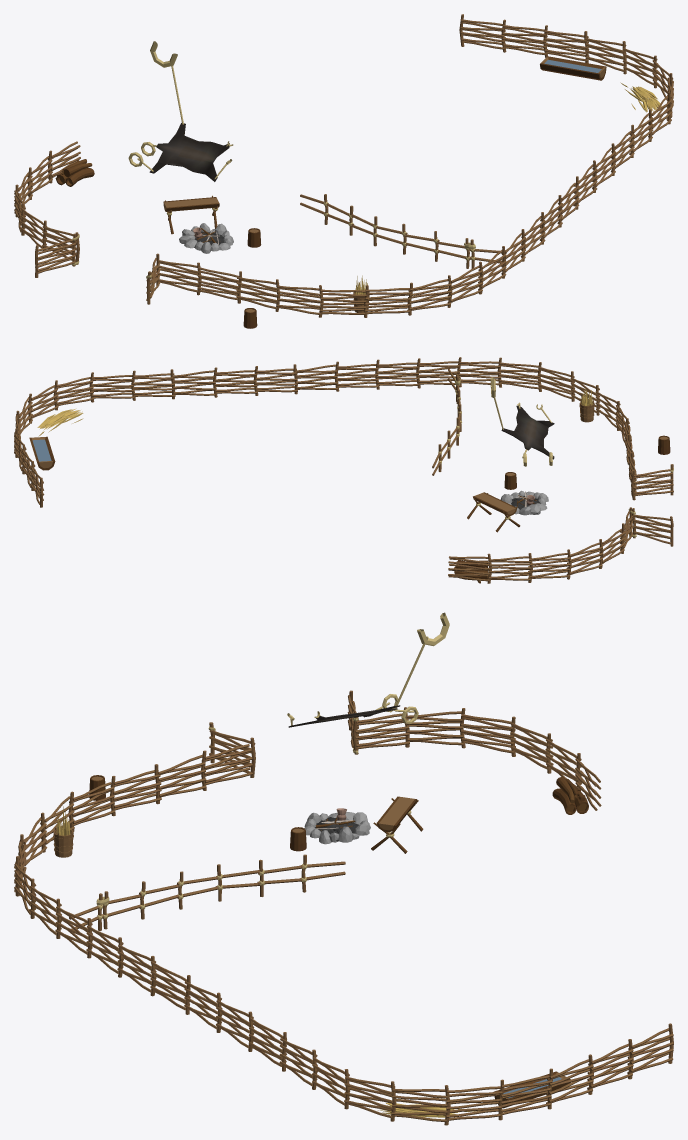
3 views of the same model, one above another, from view 1: azimuth 30°, elevation 25°; view 2: azimuth 150°, elevation 25°; view 3: azimuth 270°, elevation 25° (orthographic). The views are drawn at different scales.
Visible parts, largest first — view 1: Hide.001, Fence2.003, Fence2.002, FenceGate, Fence1.031, Fence1.008, Fence1.030, Fence1.029, Fence2.001, Fireplace stones, Fence1.011, Fence1.007 (+11 smaller); view 2: Hide.001, Fence1.020, Fence1.015, Fence1, FenceGate, Fence1.023, Fence1.021, Fence1.001, Fence1.024, Fence1.013, Fence1.016, Fence1.006 (+17 smaller); view 3: Fence2.006, Fence1.026, Fence1.005, Fence2.007, Fence1.003, Fence2, Fireplace stones, Fence1.019, Fence1.025, Fence1.007, Fence2.001, BeechBranch2.002 (+16 smaller).
Boxes of the visible parts, x1,y1,x2,y2 form: Hide.001: (149, 122, 229, 181); Fence2.003: (365, 282, 412, 315); Fence2.002: (320, 285, 368, 317); FenceGate: (35, 233, 79, 277); Fence1.031: (459, 14, 505, 49); Fence1.008: (277, 285, 323, 317); Fence1.030: (501, 19, 547, 55); Fence1.029: (543, 25, 589, 61); Fence2.001: (197, 267, 241, 303); Fireplace stones: (179, 223, 233, 253); Fence1.011: (407, 275, 452, 310); Fence1.007: (236, 277, 280, 311); Hide.001: (501, 406, 554, 459); Fence1.020: (253, 366, 297, 395); Fence1.015: (375, 359, 419, 389); Fence1: (448, 553, 492, 583); FenceGate: (628, 508, 673, 546); Fence1.023: (131, 370, 175, 400); Fence1.021: (213, 367, 257, 397); Fence1.001: (489, 553, 532, 582); Fence1.024: (89, 372, 133, 402); Fence1.013: (457, 357, 501, 387); Fence1.016: (334, 361, 378, 391); Fence1.006: (631, 469, 673, 500); Fence2.006: (445, 1079, 504, 1120); Fence1.026: (391, 1085, 450, 1125); Fence1.005: (352, 713, 409, 754); Fence2.007: (499, 1068, 553, 1114); Fence1.003: (460, 708, 515, 753); Fence2: (404, 707, 463, 747); Fireplace stones: (304, 812, 370, 844); Fence1.019: (201, 744, 252, 790); Fence1.025: (344, 1076, 396, 1121); Fence1.007: (110, 770, 161, 816); Fence2.001: (154, 754, 206, 804); BeechBranch2.002: (371, 796, 423, 853).
Size of the model in its own units: 20.88 by 5.31 by 14.6.
Materials: 27 (27 with a texture image).
